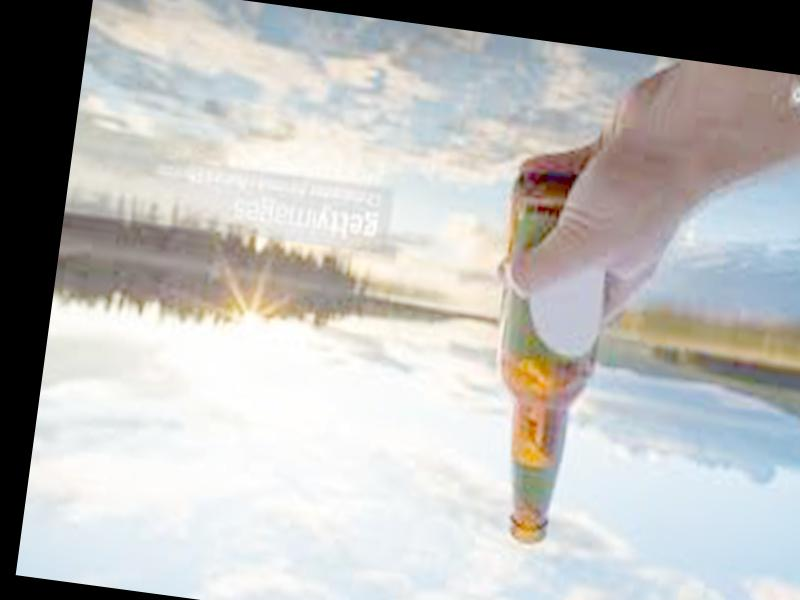Beer: (463, 171, 622, 550)
